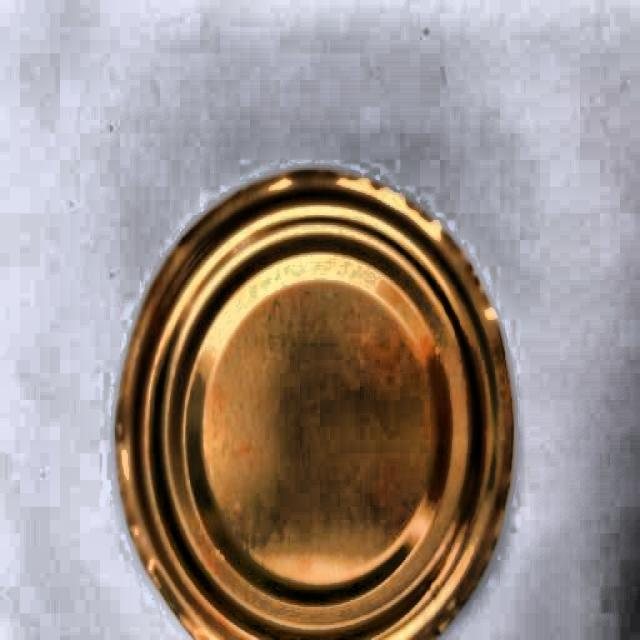metal: (111, 164, 520, 640)
